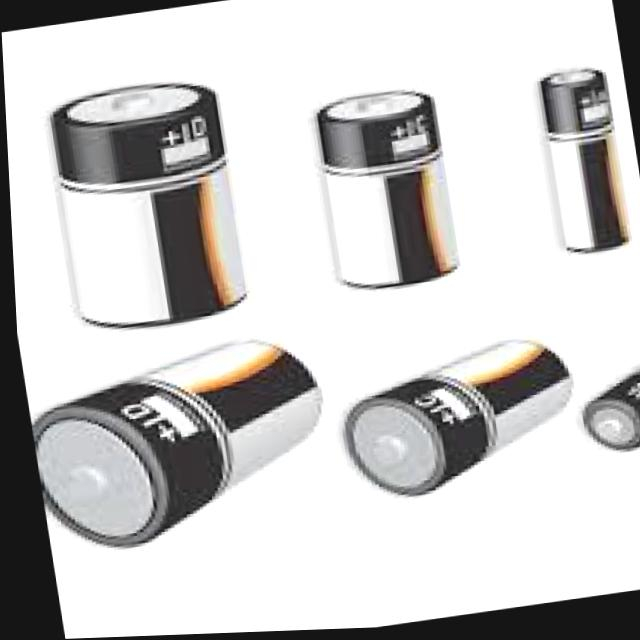B3: (1, 0, 640, 581)
